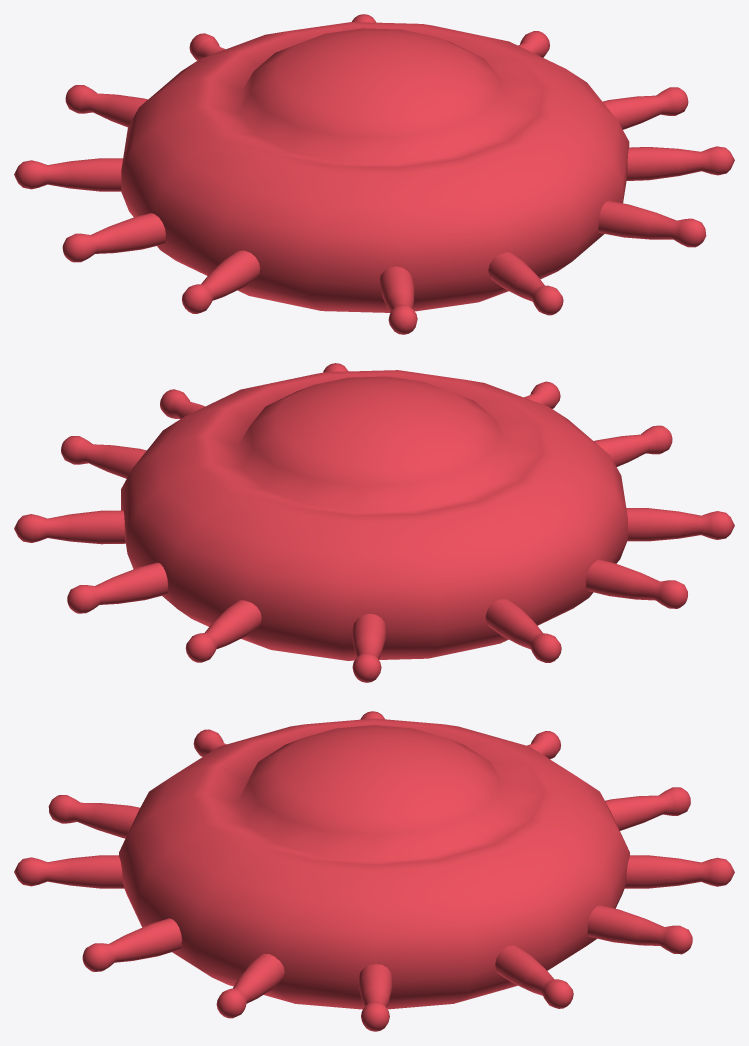
Rendered from dropship.fbx.
The picture shows the model from 3 angles, top to bottom: view 1: azimuth 30°, elevation 25°; view 2: azimuth 150°, elevation 25°; view 3: azimuth 270°, elevation 25°; orthographic projection.
Visible parts, largest first — view 1: Cylinder.012; view 2: Cylinder.012; view 3: Cylinder.012.
Boxes of the visible parts, <box> form: Cylinder.012: <box>14,14,734,334</box>; Cylinder.012: <box>14,363,734,682</box>; Cylinder.012: <box>14,711,734,1031</box>.
Bounding box in the file's own units: 348 × 93.04 × 348.
